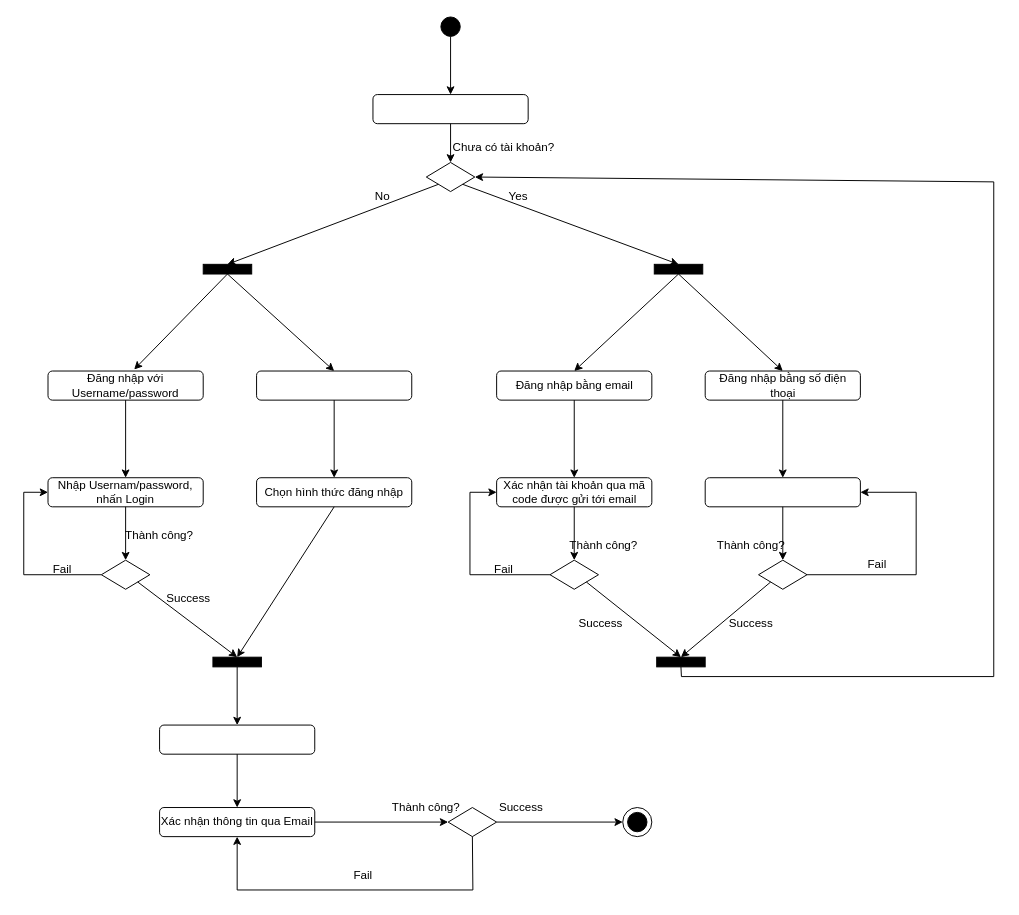
Image size: 1019x915. Some labels were removed from this diagram. The shapes that lost their labels are listed below. From the top down, each one's centre as x and y in pixels, then its label:
At pixel 450 109: "Chọn đăng nhập".
At pixel 334 385: "Đăng nhập với Google/Apple/Facebook".
At pixel 782 492: "Xác nhận tài khoản qua mã code được gửi tới SĐT".
At pixel 237 739: "Khai báo cac thông tin của doanh nghiệp".
